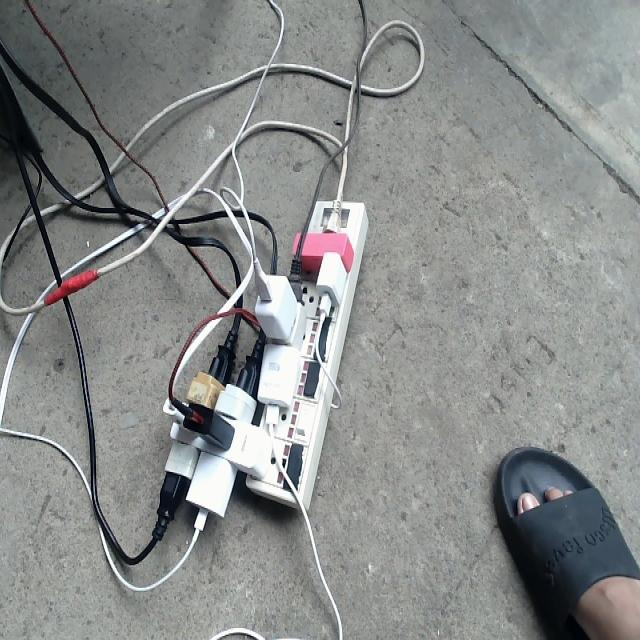-: (156, 193, 367, 516)
